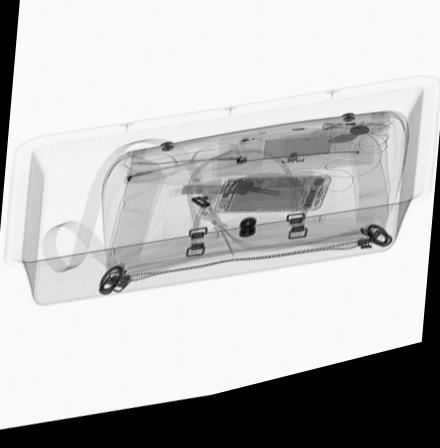Lighter: (318, 138, 365, 148)
